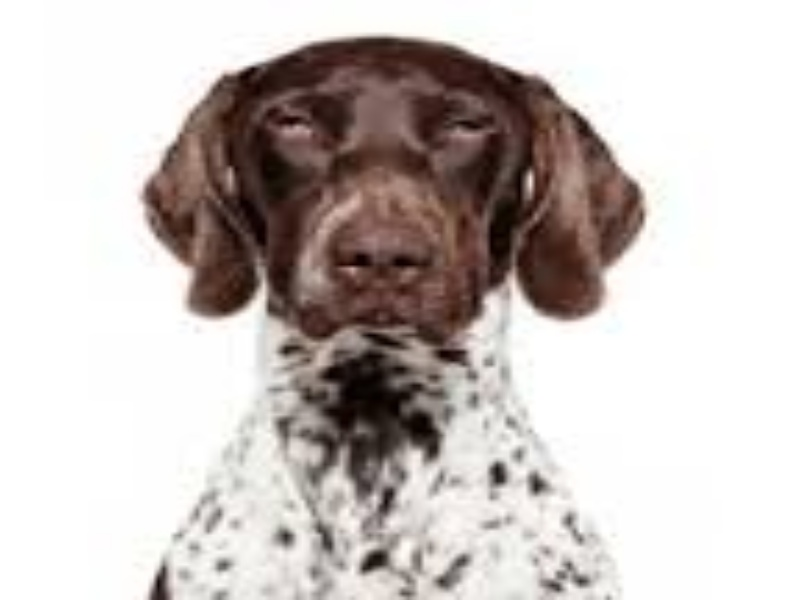dog: (89, 33, 684, 556)
